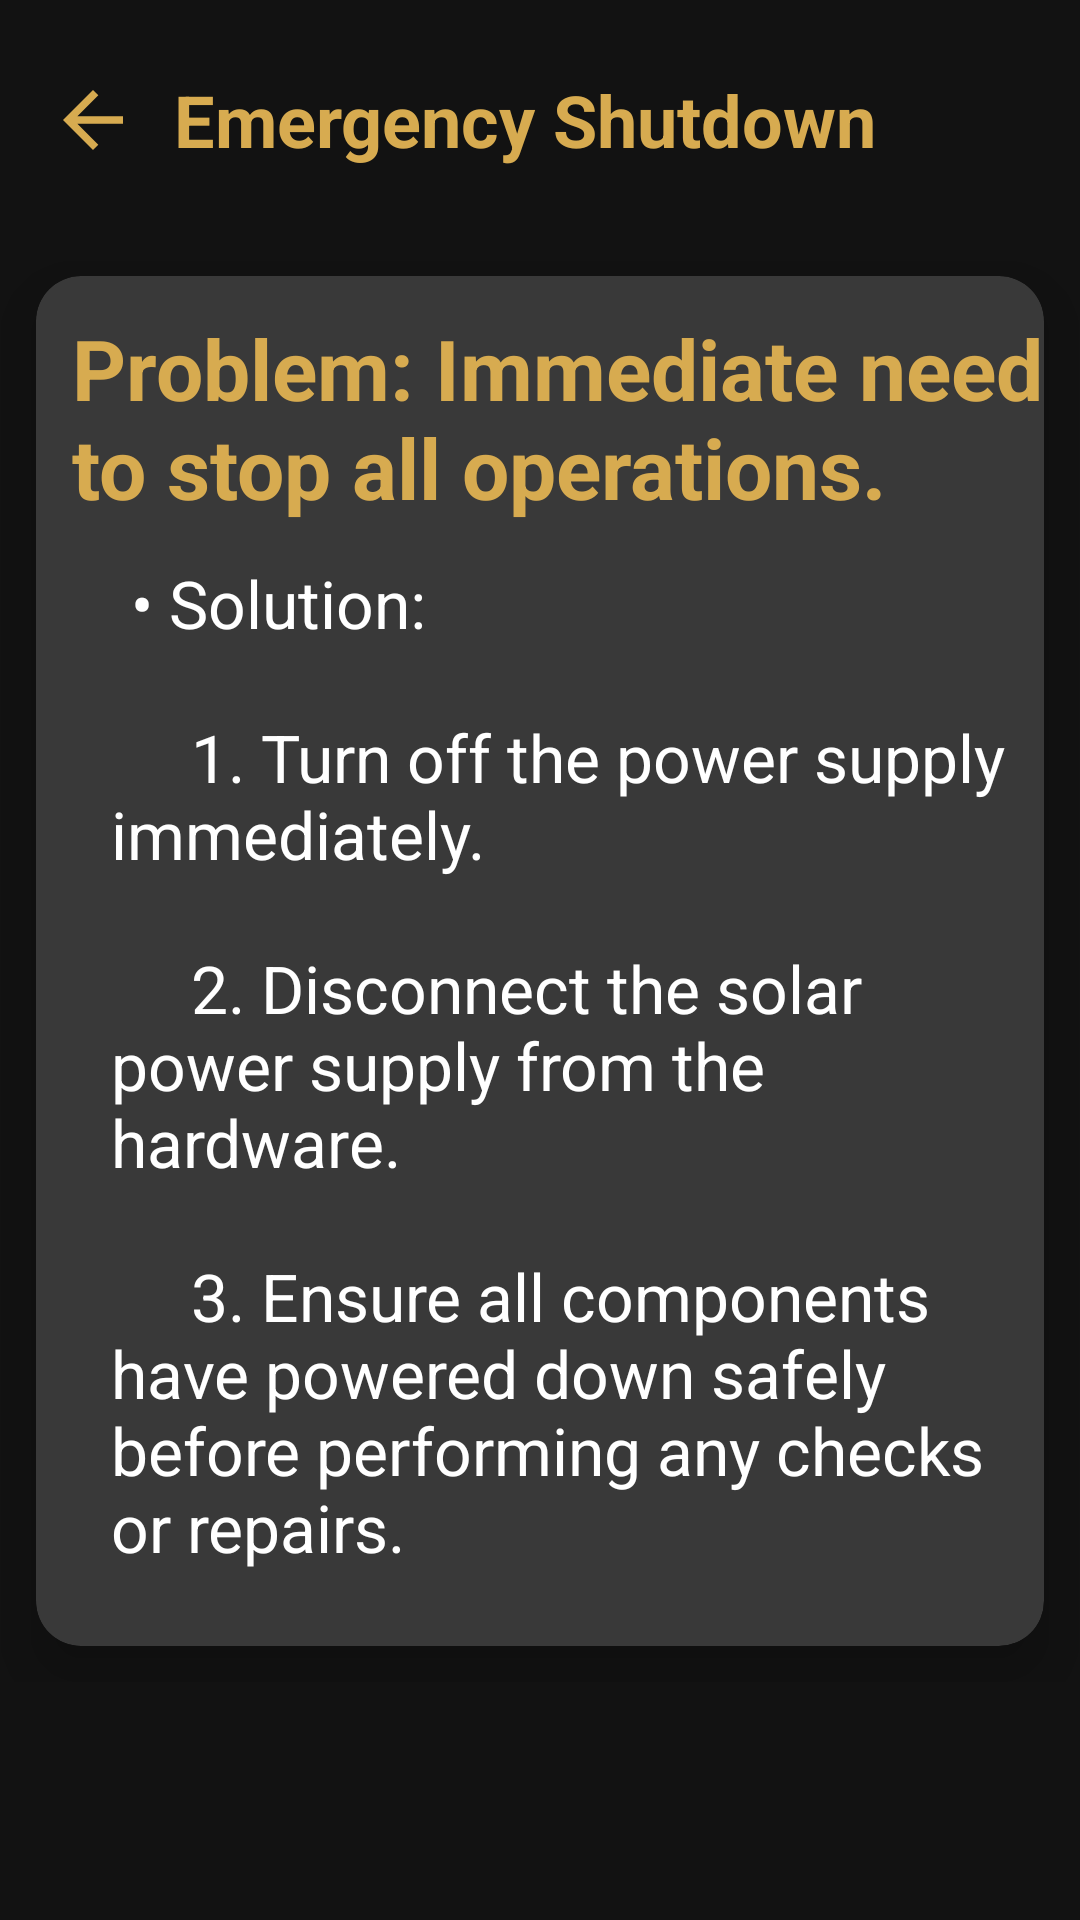

Screen size 1080 x 1920. Icon name, then its box in pixels as (x1,y1,x2,y2):
arrow back: (63,90,123,150)
